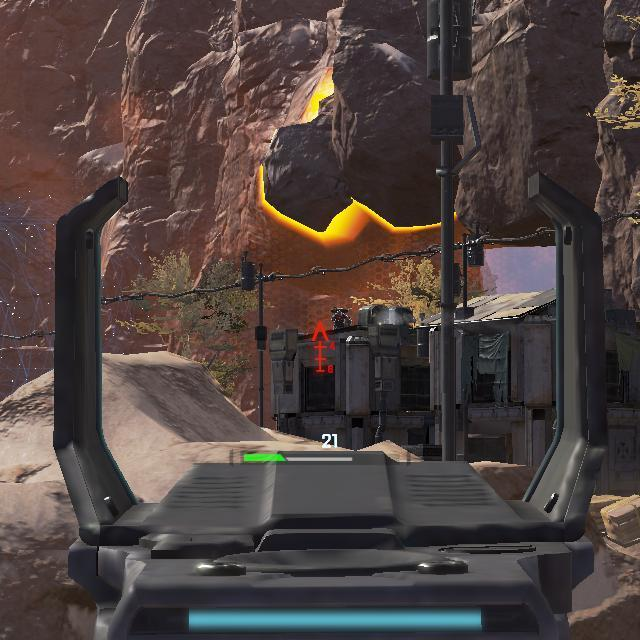avatar: (328, 305, 354, 333)
